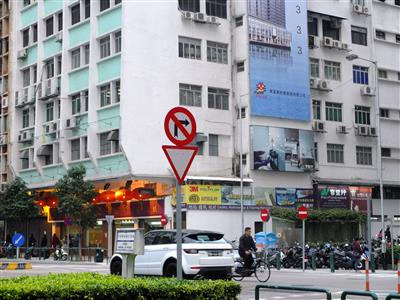keepLeft: (10, 232, 24, 247)
noEntry: (296, 204, 310, 219), (259, 207, 269, 220), (160, 214, 167, 225)
noRightTurn: (163, 105, 198, 145)
noStopping: (63, 217, 72, 227)
yield: (160, 143, 198, 185)
